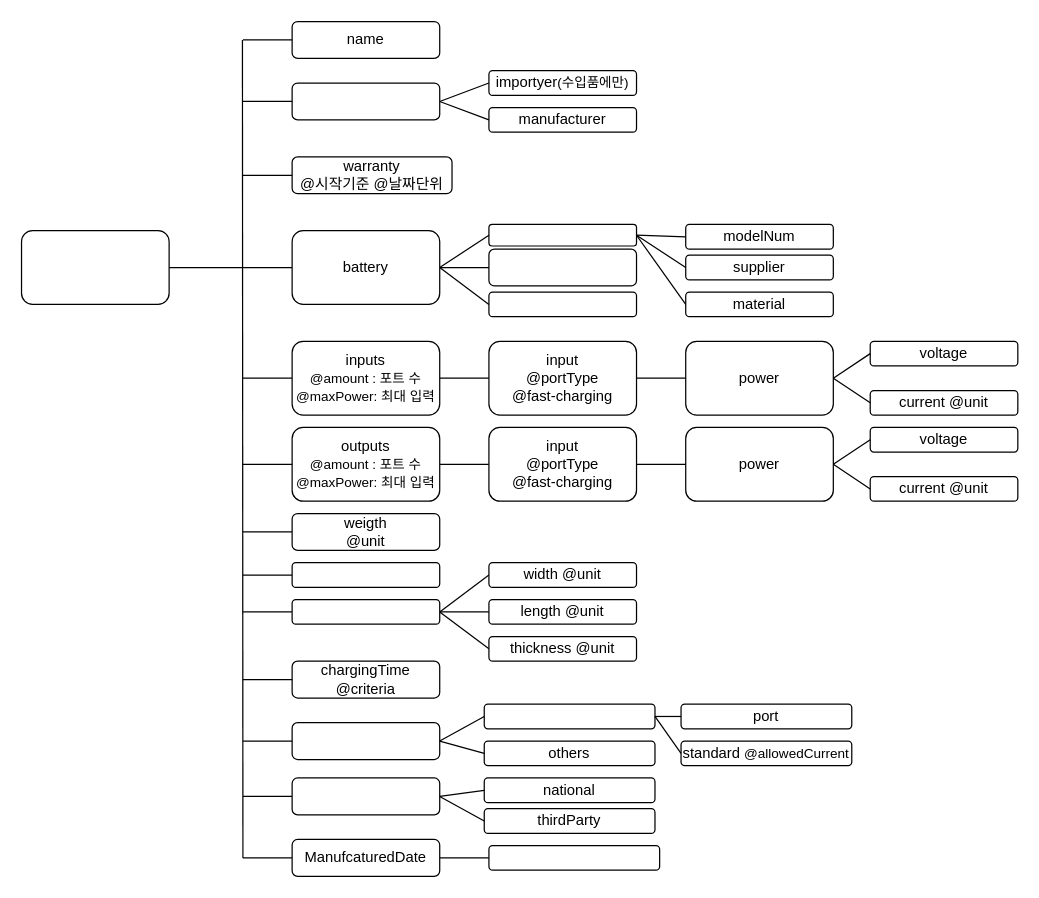
This 1039x898 diagram has some shape labels left out. The shapes that lost their labels are listed below. From the top down, each one's centre as x and y in pixels, then its label:
At (365,101): "company".
At (562,234): "cell".
At (94,266): "보조배터리".
At (562,267): "capacity @capacityUnit".
At (562,304): "rate".
At (365,574): "color".
At (365,611): "size".
At (569,716): "cable @length".
At (365,740): "package".
At (365,796): "certified".
At (574,857): "year @part".
